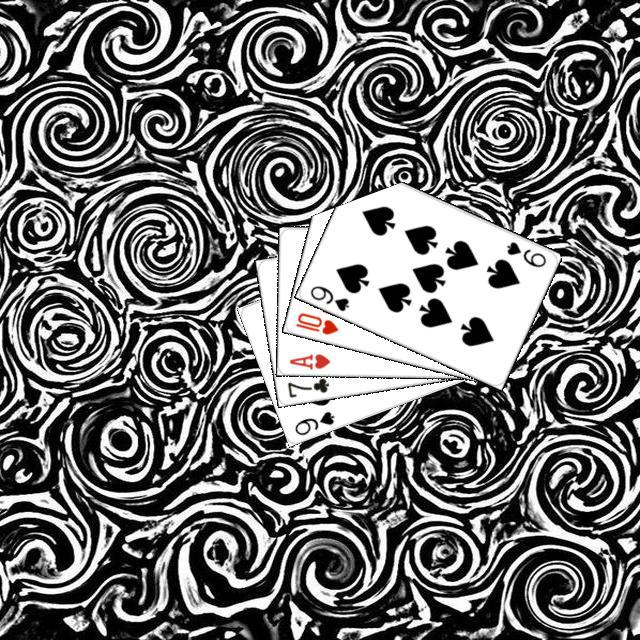10h: (291, 308, 340, 336)
7c: (282, 373, 331, 399)
9s: (305, 281, 351, 313), (502, 237, 548, 269), (290, 406, 336, 437)
Ah: (284, 349, 332, 371)
